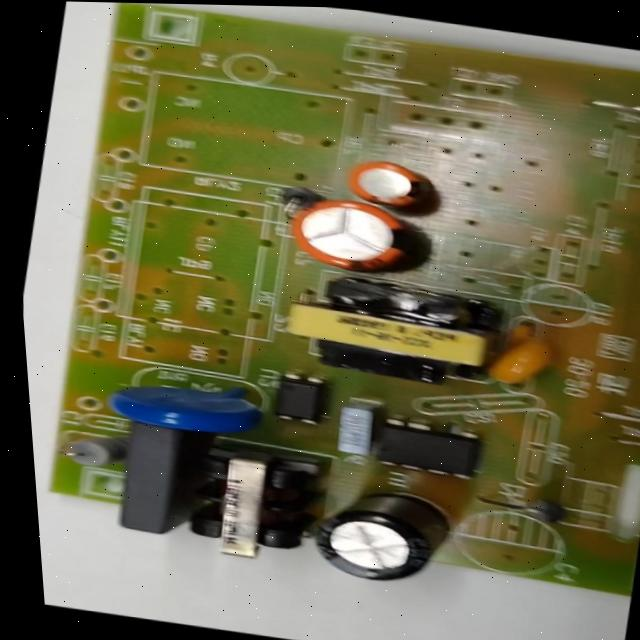Cap1: (285, 191, 413, 271)
Cap2: (346, 157, 421, 204)
Cap3: (303, 481, 456, 590)
MOSFET: (374, 416, 485, 479)
Mov: (99, 376, 266, 440)
Resistor: (51, 431, 125, 470)
Transformer: (279, 276, 503, 389), (178, 454, 321, 566)
